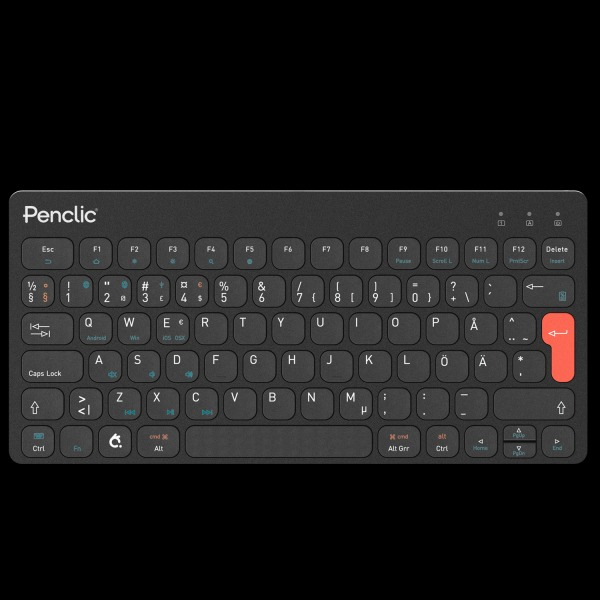keyboard: (3, 190, 600, 466)
